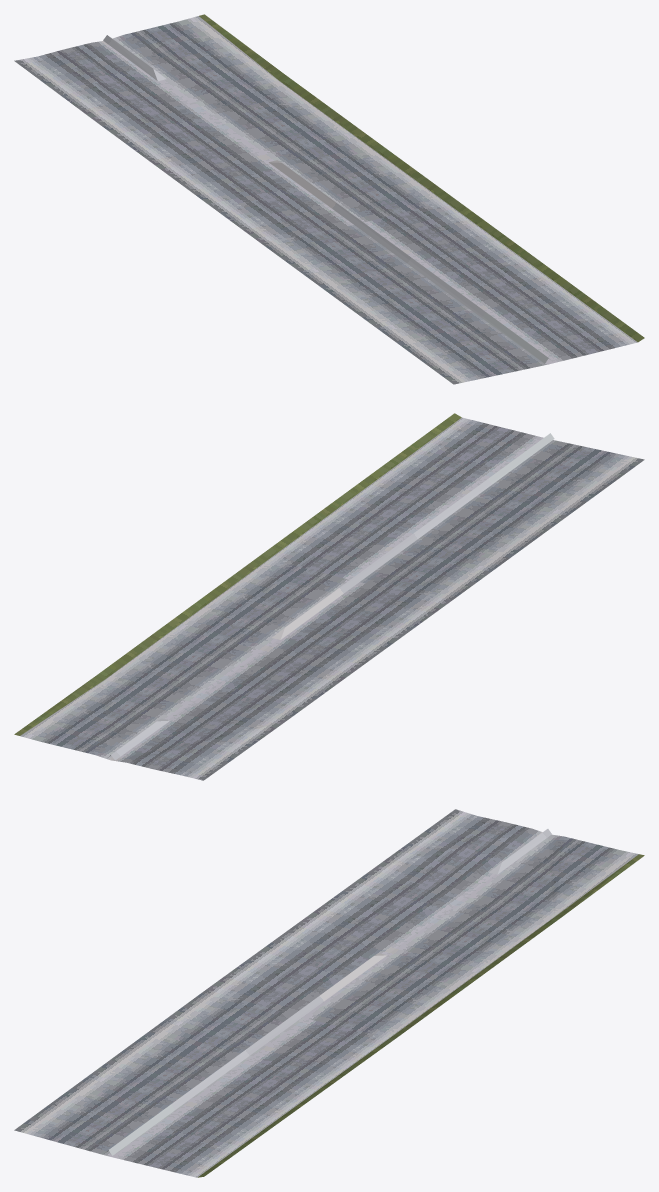
Rendered from lodasnedge08.obj.
3 renders of one model, top to bottom at view 1: azimuth 30°, elevation 25°; view 2: azimuth 150°, elevation 25°; view 3: azimuth 330°, elevation 25°, orthographic.
Parts seen in each view (by area): view 1: lodasNedge08; view 2: lodasNedge08; view 3: lodasNedge08.
Boxes of the visible parts, left/top/right/bottom form: lodasNedge08: left=14, top=14, right=644, bottom=384; lodasNedge08: left=14, top=413, right=644, bottom=780; lodasNedge08: left=14, top=809, right=644, bottom=1177.
Size of the model in its own units: 40.26 by 1.63 by 160.
2 materials, 2 textured.
